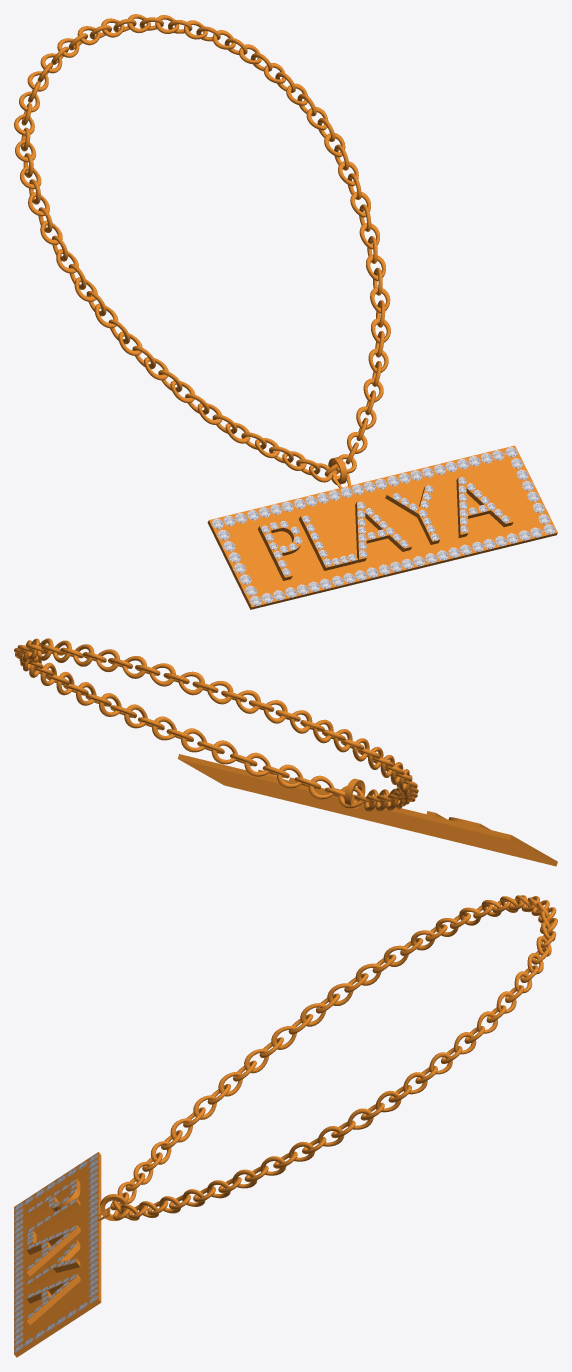
Rendered from Playa_Chain.fbx.
3 renders of one model, top to bottom at view 1: azimuth 30°, elevation 25°; view 2: azimuth 150°, elevation 25°; view 3: azimuth 270°, elevation 25°, orthographic. The views are drawn at different scales.
Parts seen in each view (by area): view 1: Playa-chain; view 2: Playa-chain; view 3: Playa-chain.
Part boxes in pixels (x1,y1,x2,y2): Playa-chain: (14, 14, 557, 609); Playa-chain: (14, 638, 557, 866); Playa-chain: (14, 895, 557, 1357).
Size of the model in its own units: 21.77 by 22.81 by 31.63.
